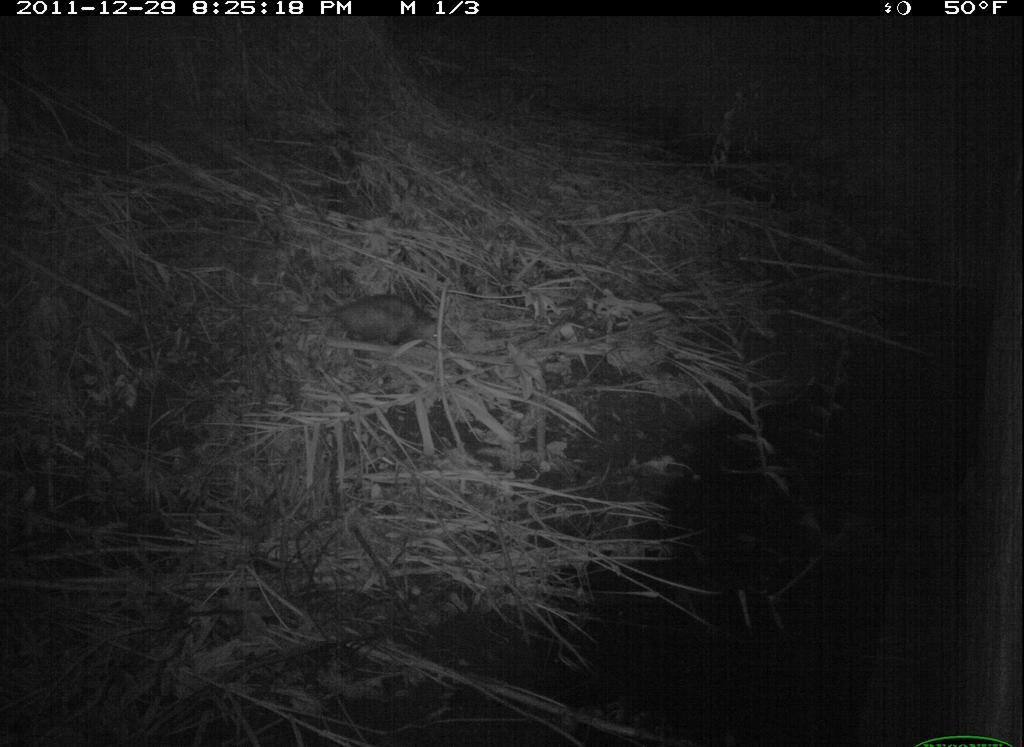opossum: (289, 291, 460, 364)
